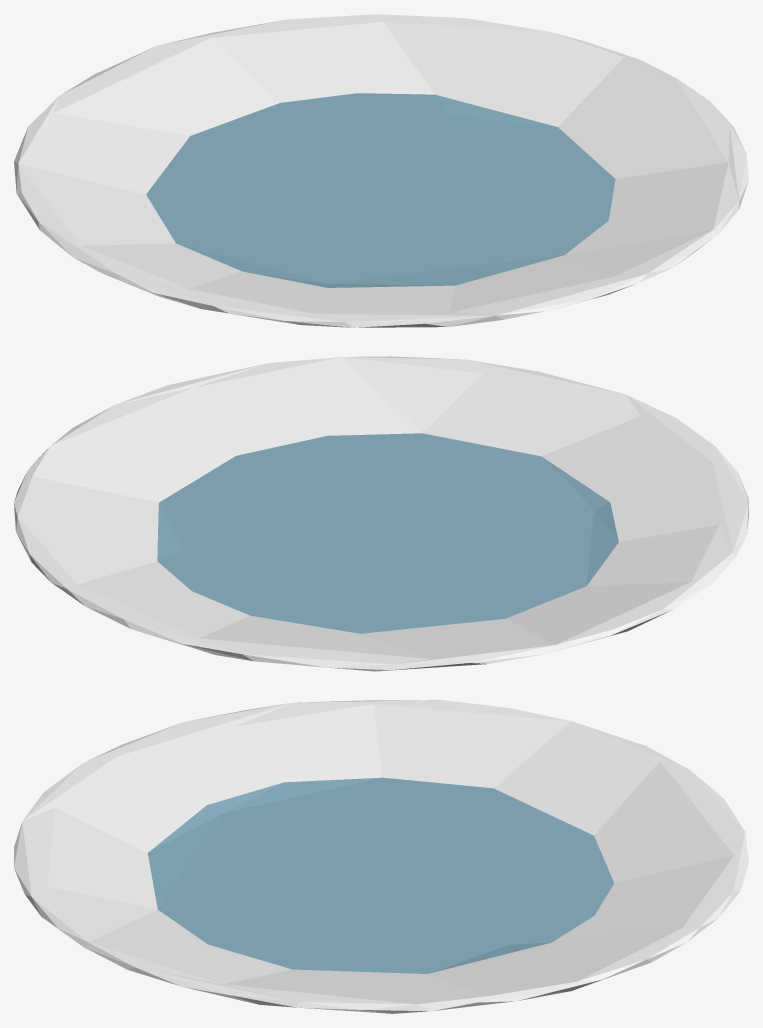
File: PlateBig01White.fbx
The picture shows the model from 3 angles, top to bottom: view 1: azimuth 30°, elevation 25°; view 2: azimuth 150°, elevation 25°; view 3: azimuth 270°, elevation 25°; orthographic projection.
Visible parts, largest first — view 1: PlateBig01LowPolyWhite; view 2: PlateBig01LowPolyWhite; view 3: PlateBig01LowPolyWhite.
Boxes of the visible parts, box(x1,y1,x2,y2) form: PlateBig01LowPolyWhite: box(14, 14, 748, 327); PlateBig01LowPolyWhite: box(14, 356, 748, 671); PlateBig01LowPolyWhite: box(14, 700, 748, 1013).
Size of the model in its own units: 28.9 by 1.79 by 28.88.
